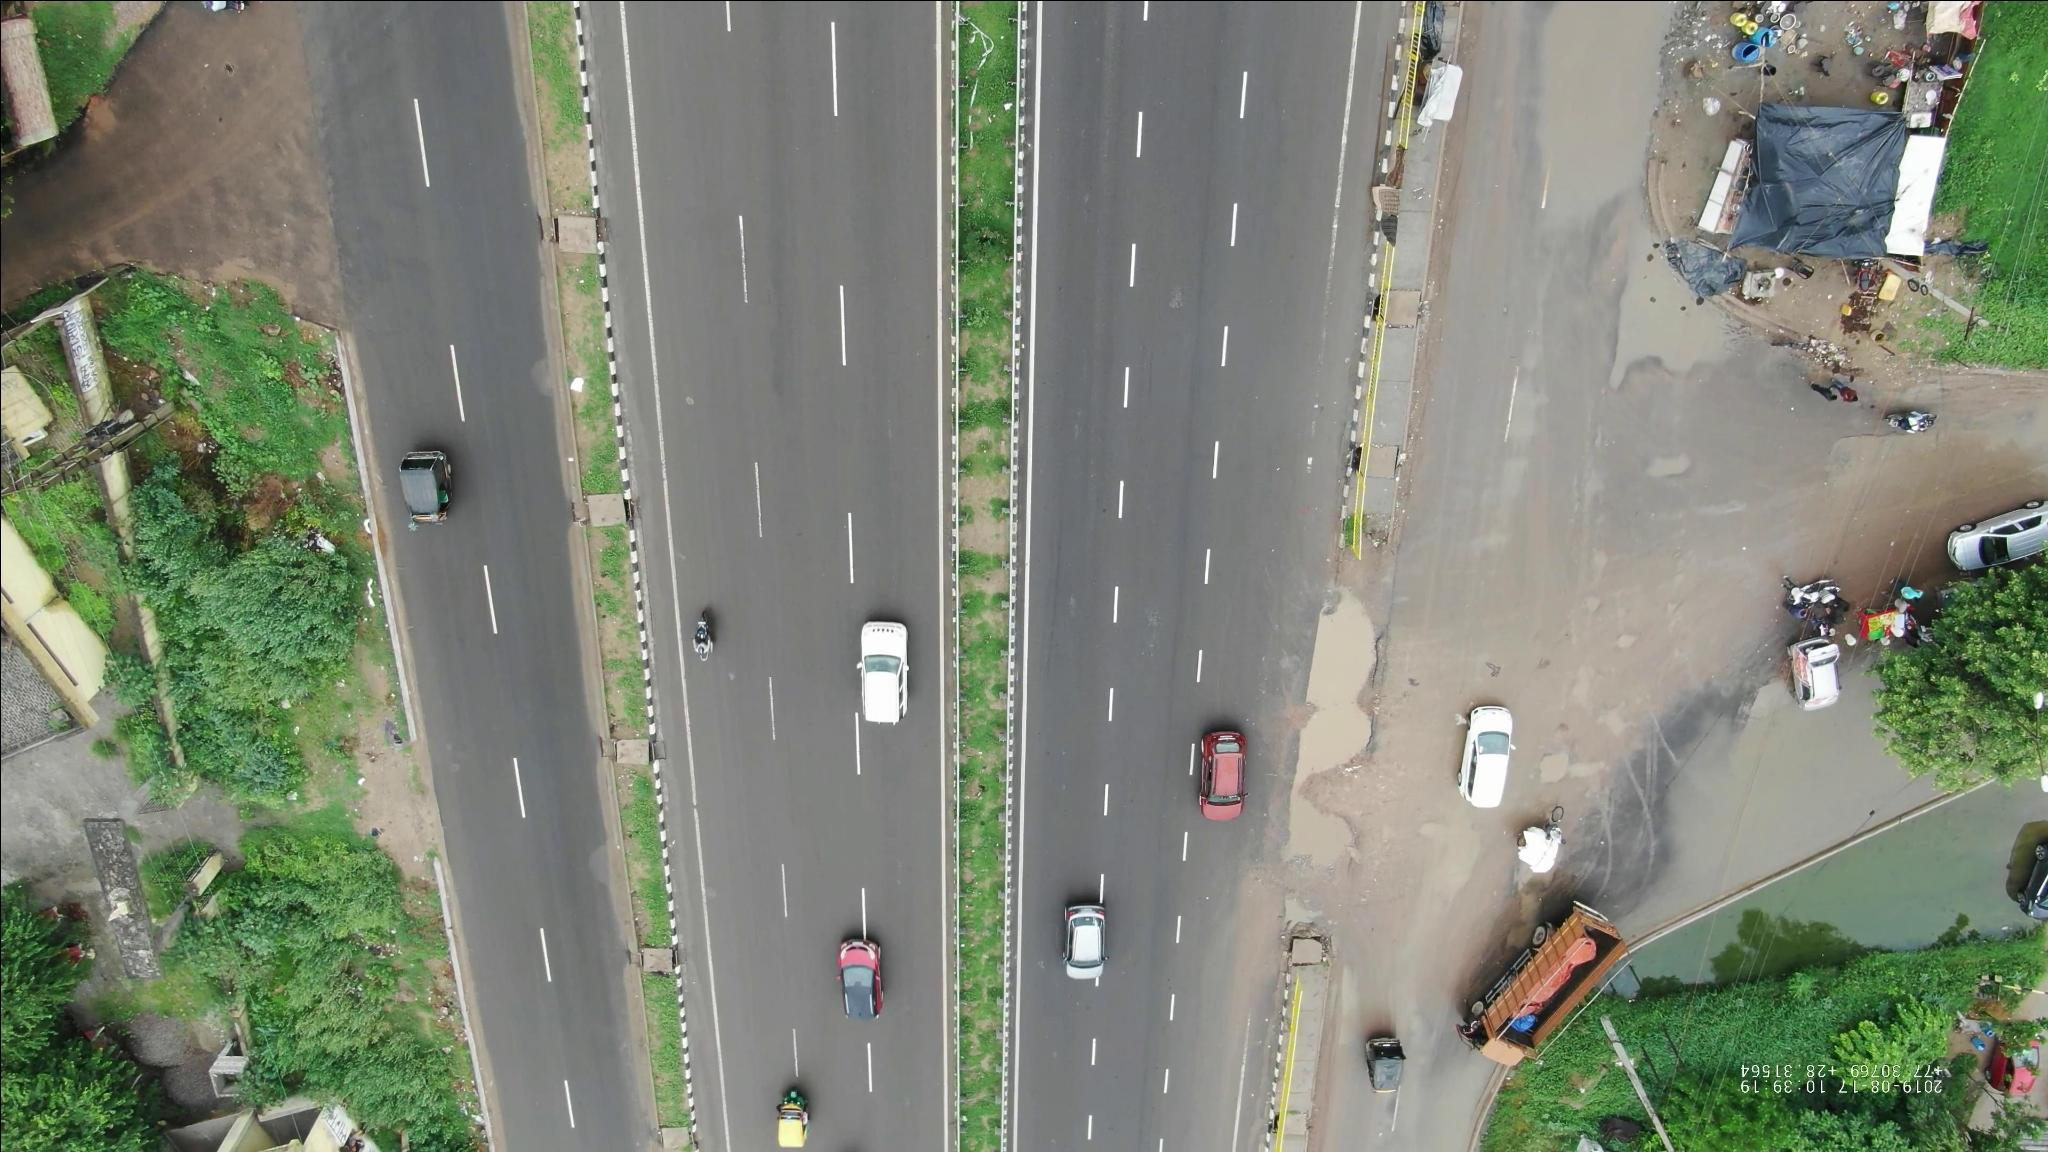Potholes: (1279, 595, 1405, 873), (1535, 641, 1654, 816), (1577, 433, 1710, 585), (1492, 852, 1580, 944), (1241, 890, 1336, 928)
Waterlogging: (1509, 8, 1674, 255), (1587, 235, 1765, 398)
